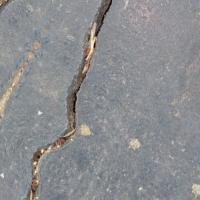crack: (25, 1, 119, 199)
